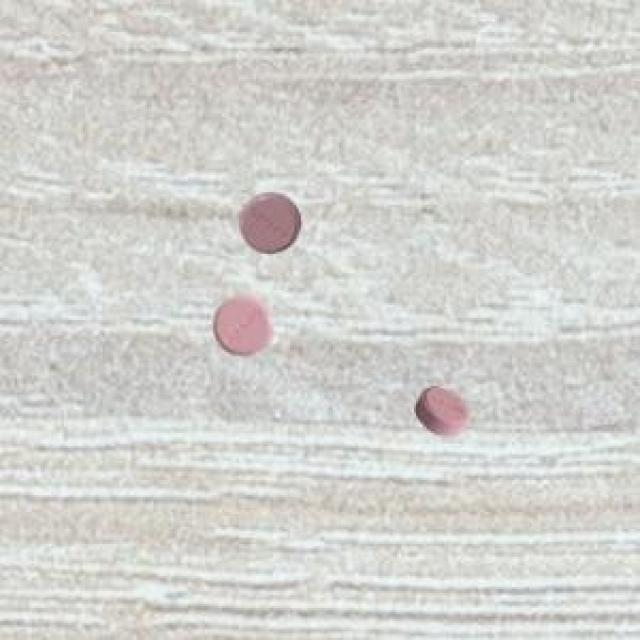Kremil_S: (226, 183, 311, 263), (201, 288, 277, 372), (402, 376, 483, 446)
